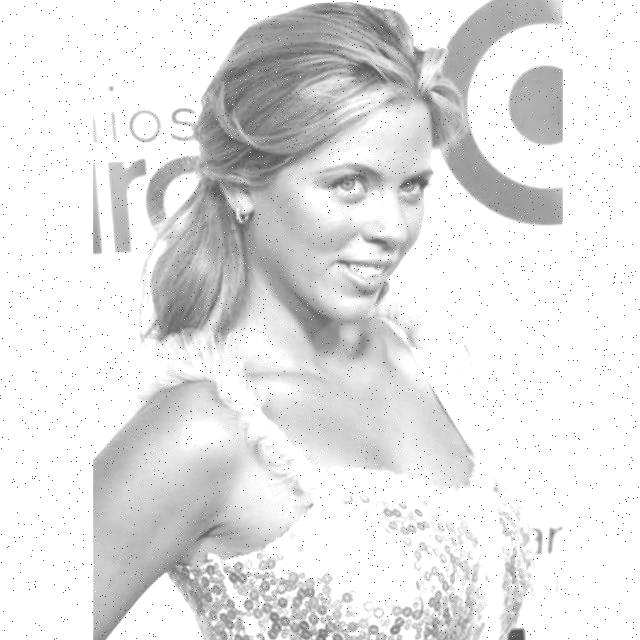real: (256, 114, 434, 324)
